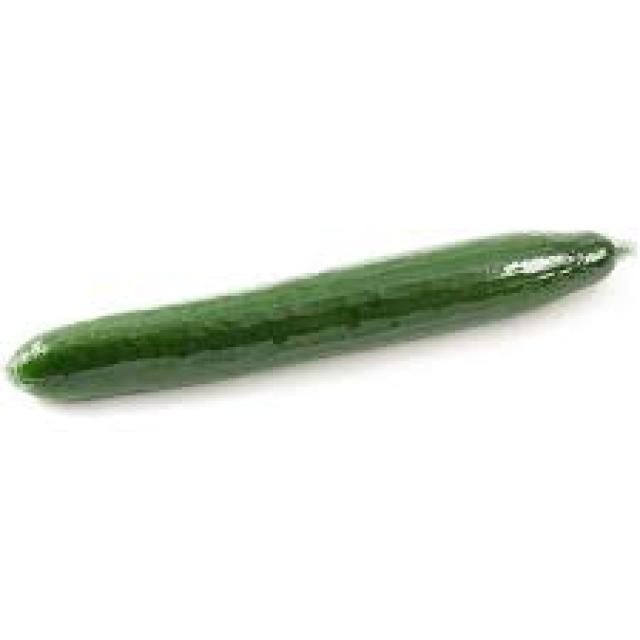cucumber: (3, 225, 631, 401)
